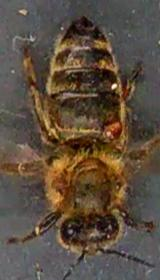varroa_mite: (90, 120, 132, 138)
